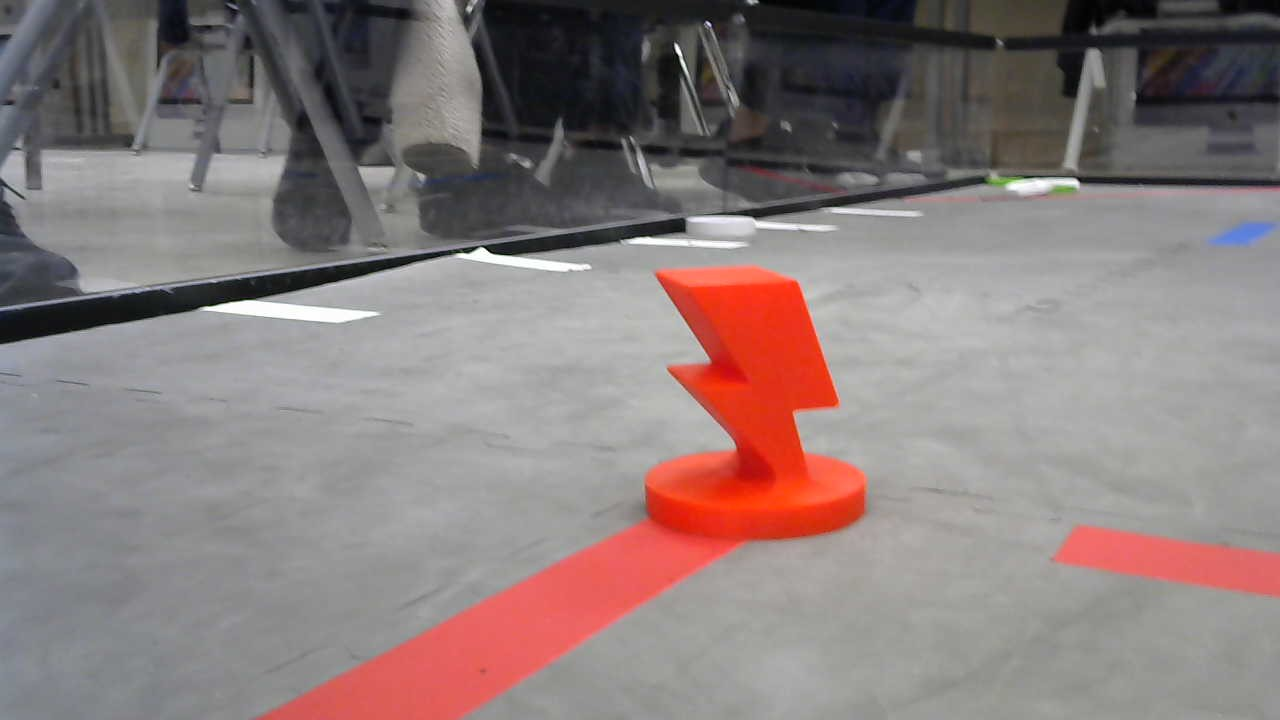redobject: (642, 260, 874, 546)
